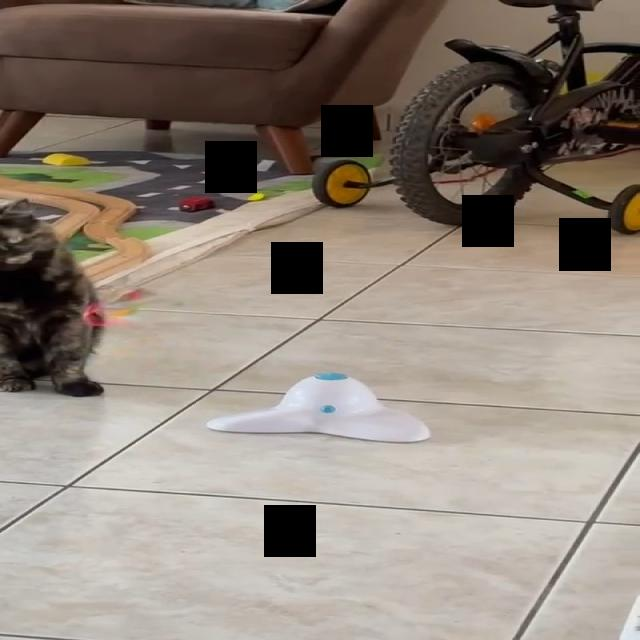authorized: (0, 197, 105, 397)
